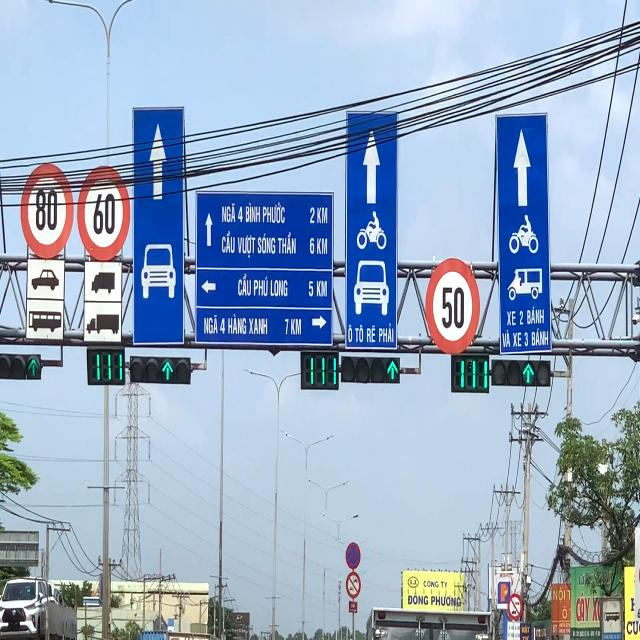P.127: (422, 254, 480, 359), (76, 162, 132, 258), (20, 162, 74, 259)
P.130: (344, 541, 362, 571)
